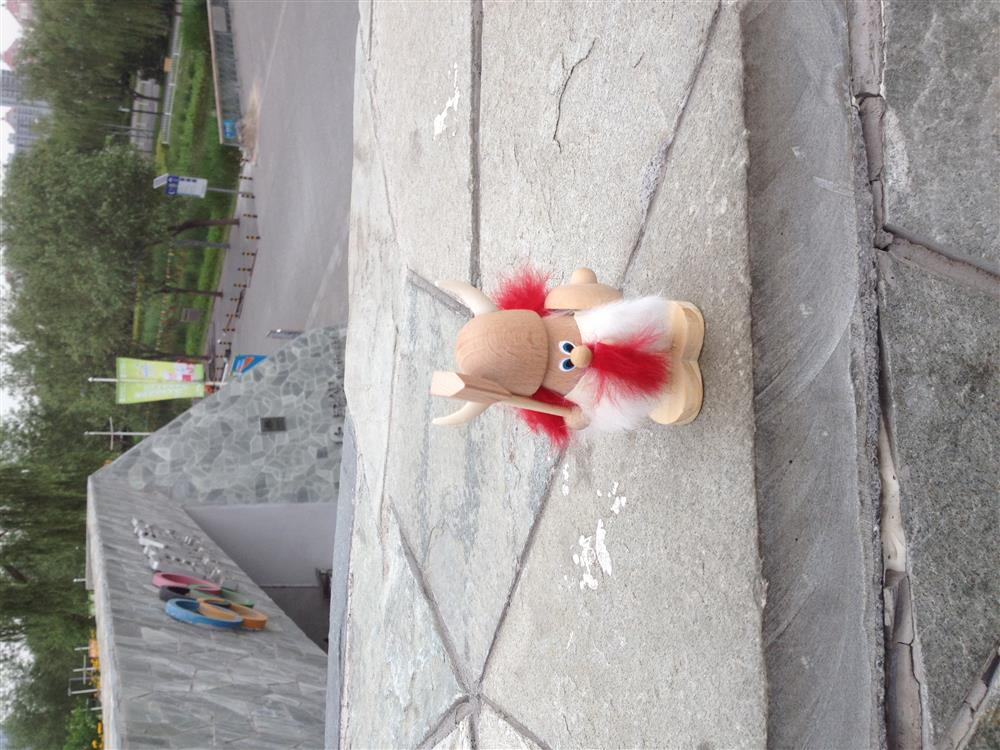dwarf: (425, 263, 709, 457)
